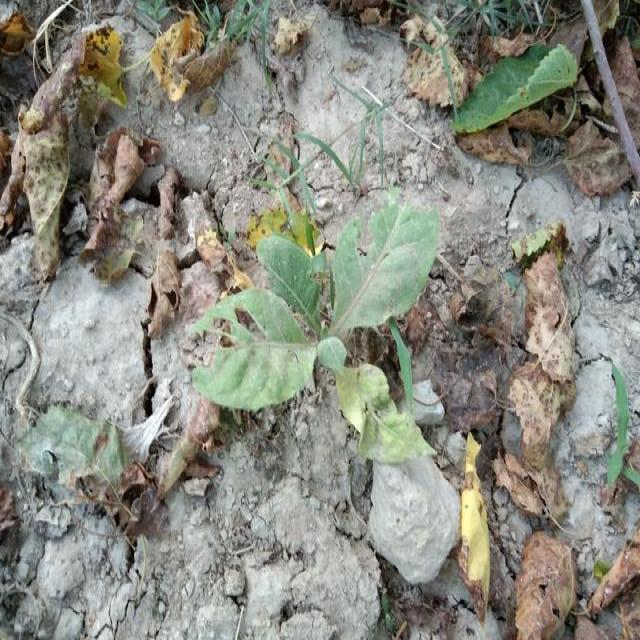crop: (182, 191, 460, 470)
